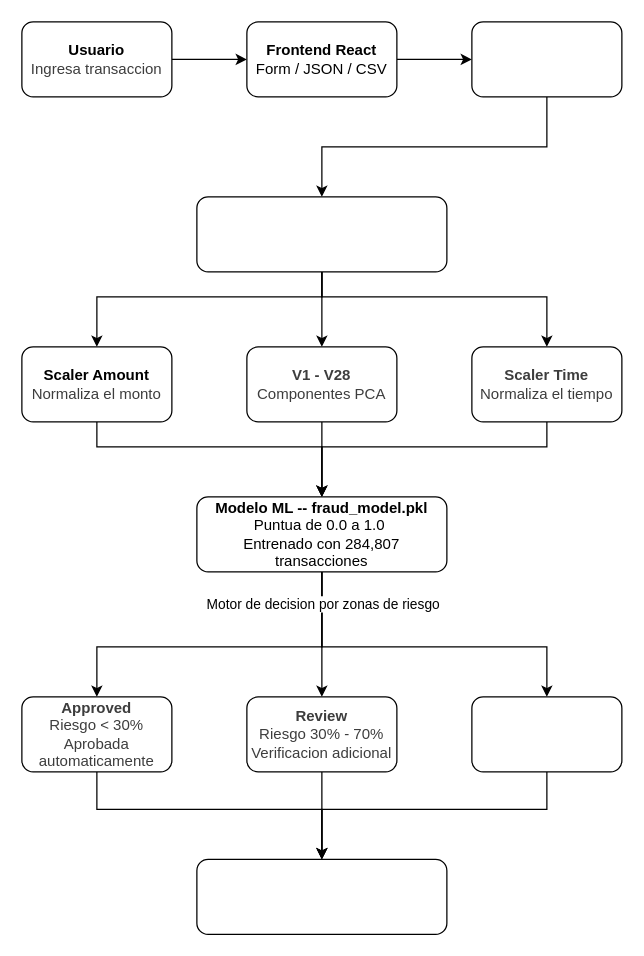
Image size: 644x956. Some labels were removed from this diagram. Here are the shapes that lost their labels. From the top down, the box of each, then its label:
(471, 21, 622, 97): Post /predict 30 campos / JSON
(196, 196, 447, 272): FastAPI -- Backend Recibe y valida la transaccion
(471, 696, 622, 772): Blocked Riesgo > 70% Bloqueo inmediato
(196, 858, 447, 934): Respuesta al JSON frontend Risk score / Decision / Historial actualizado
